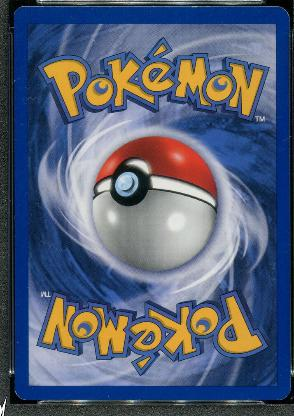Card: (10, 3, 292, 402)
Corner Wear: (273, 388, 289, 400), (14, 388, 28, 400)
Edge Wear: (187, 5, 219, 7), (14, 376, 15, 386)
Scratch: (31, 234, 69, 254), (265, 259, 276, 283), (33, 200, 43, 210), (25, 96, 39, 102), (280, 134, 290, 142), (14, 77, 24, 83), (281, 250, 288, 256), (19, 96, 24, 104), (91, 38, 96, 44), (281, 242, 287, 246), (14, 212, 16, 220), (16, 340, 20, 342), (252, 376, 254, 380), (24, 86, 28, 88), (17, 355, 19, 358)
